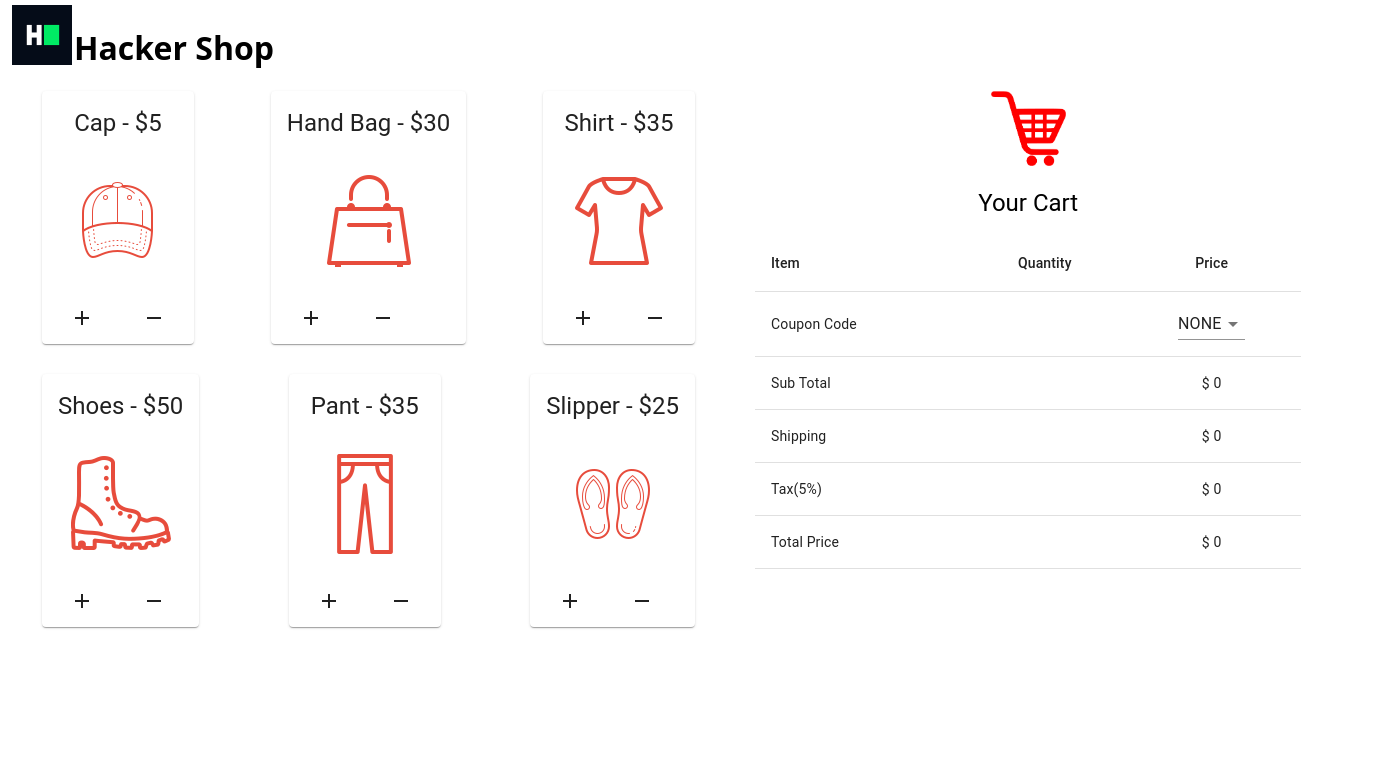
Hacker Shop <App/> › Add item multiple times and deleting the item
Step 1. Click the button with id "buttonAdd3" → (82, 601), box [50,583,114,619]
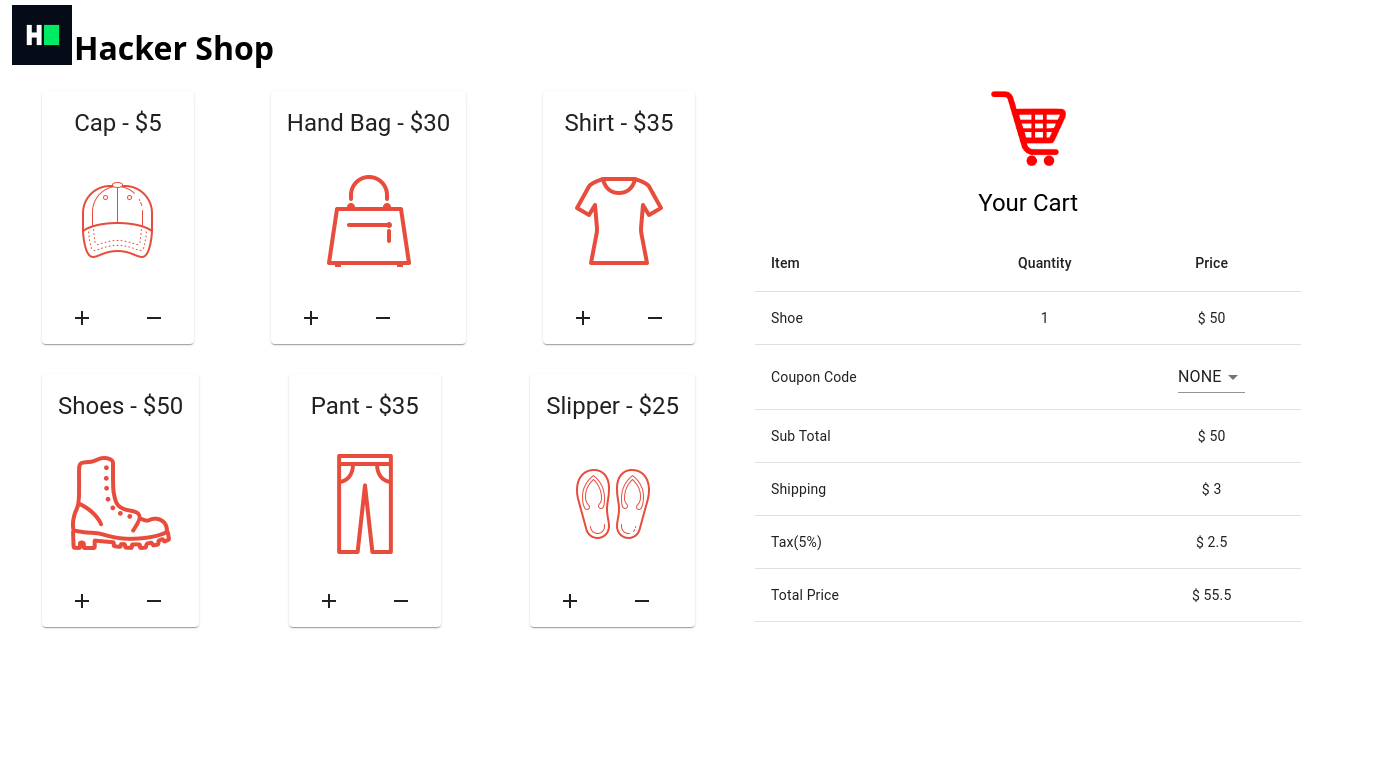
Step 2. Click the button with id "buttonAdd3" → (82, 601), box [50,583,114,619]
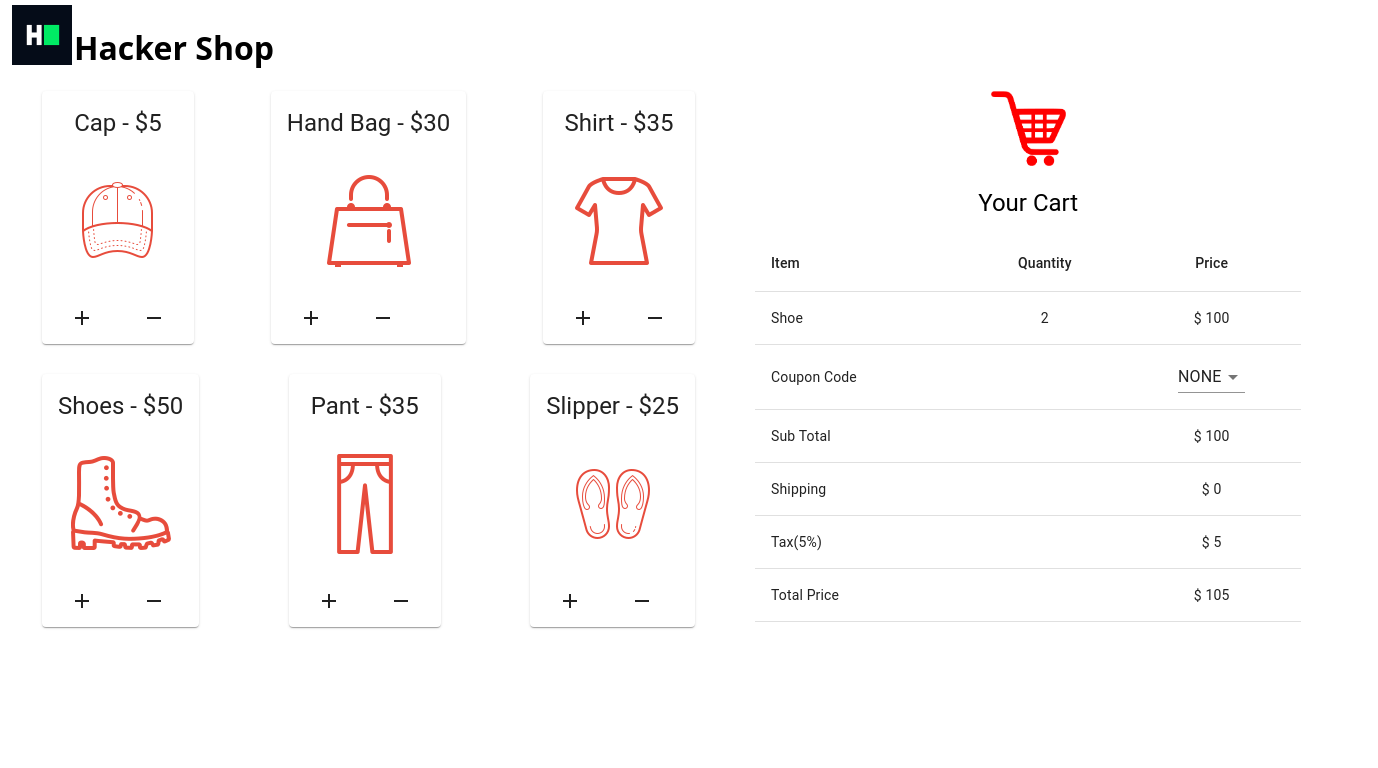
Step 3. Click the button with id "buttonAdd3" → (82, 601), box [50,583,114,619]
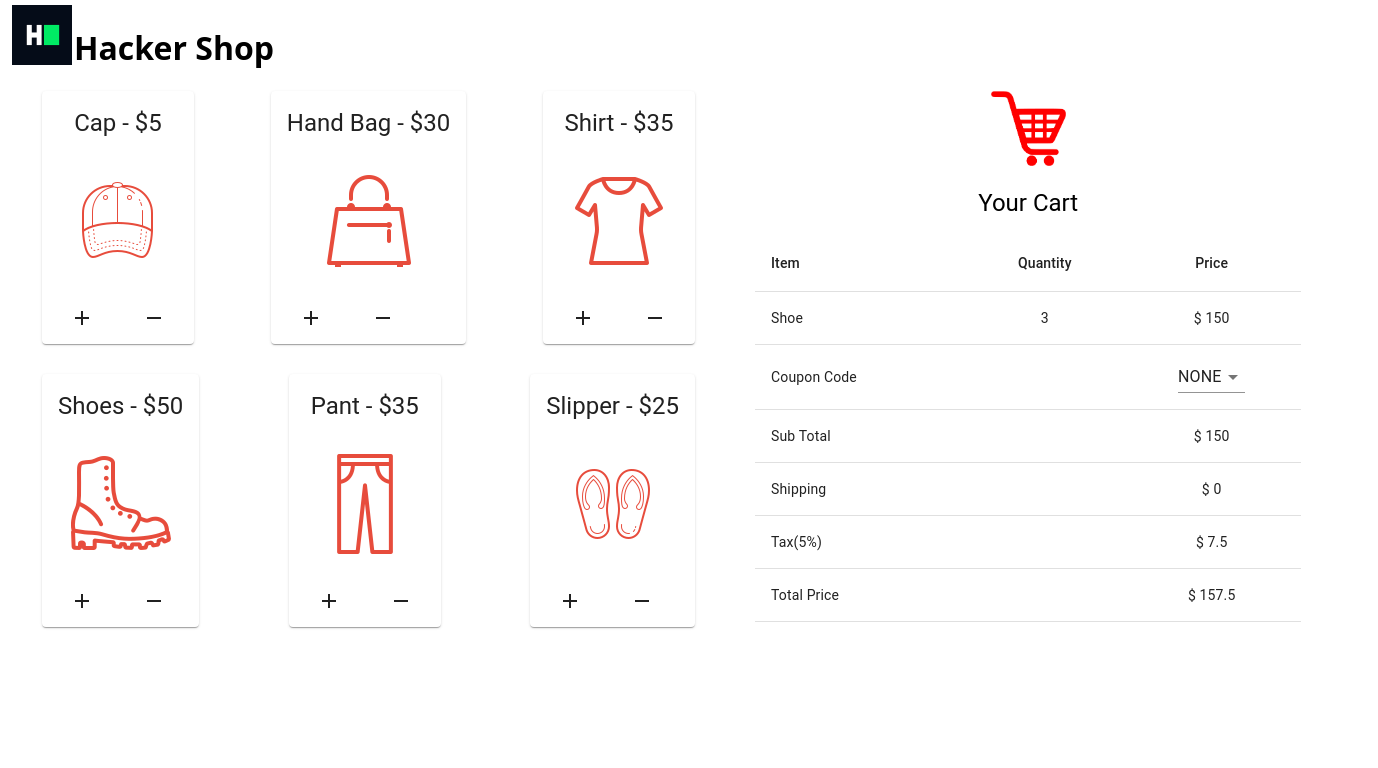
Result: the row with id "itemRow0" reads "Shoe 3 $ 150" at [755,291,1301,344]
Step 4. Click the button with id "buttonDelete3" → (154, 601), box [122,583,186,619]
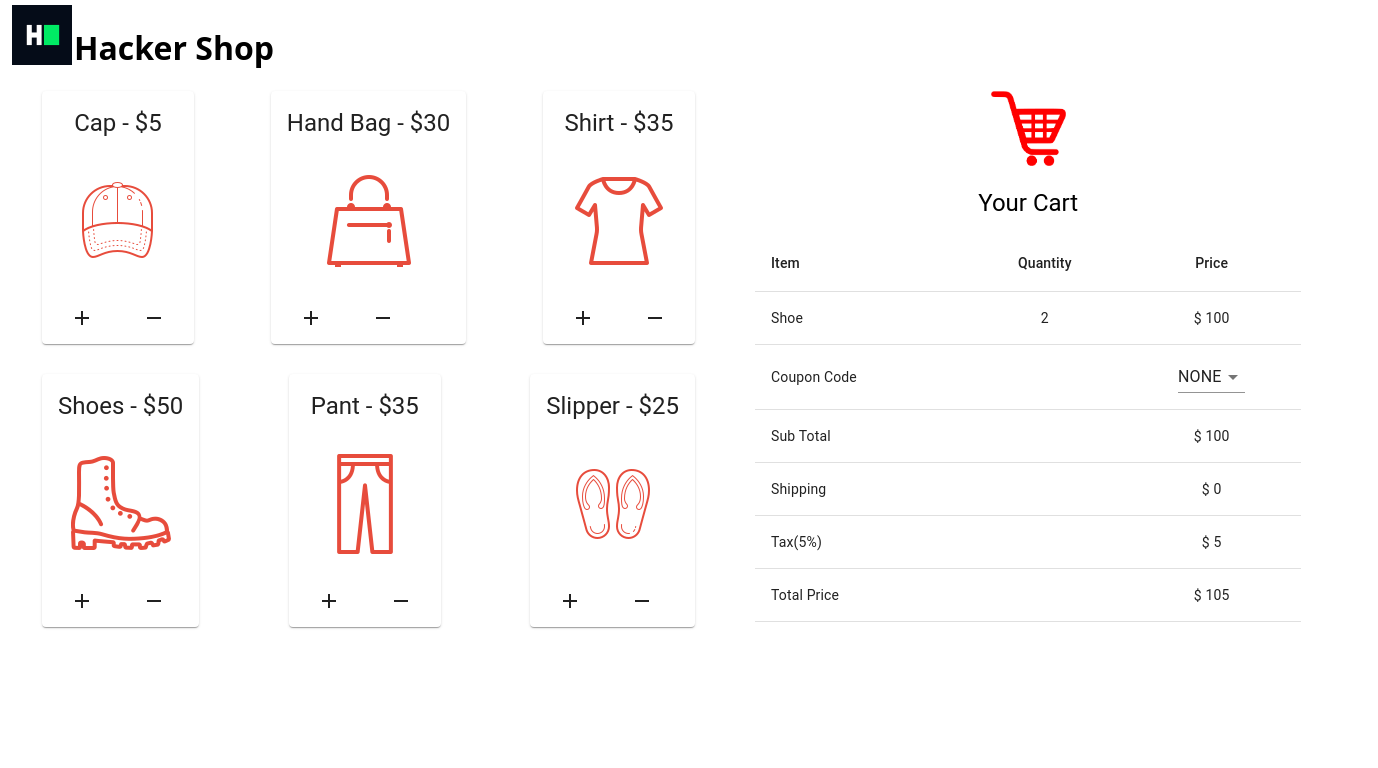
Result: the row with id "itemRow0" reads "Shoe 2 $ 100" at [755,291,1301,344]
Step 5. Click the button with id "buttonDelete3" → (154, 601), box [122,583,186,619]
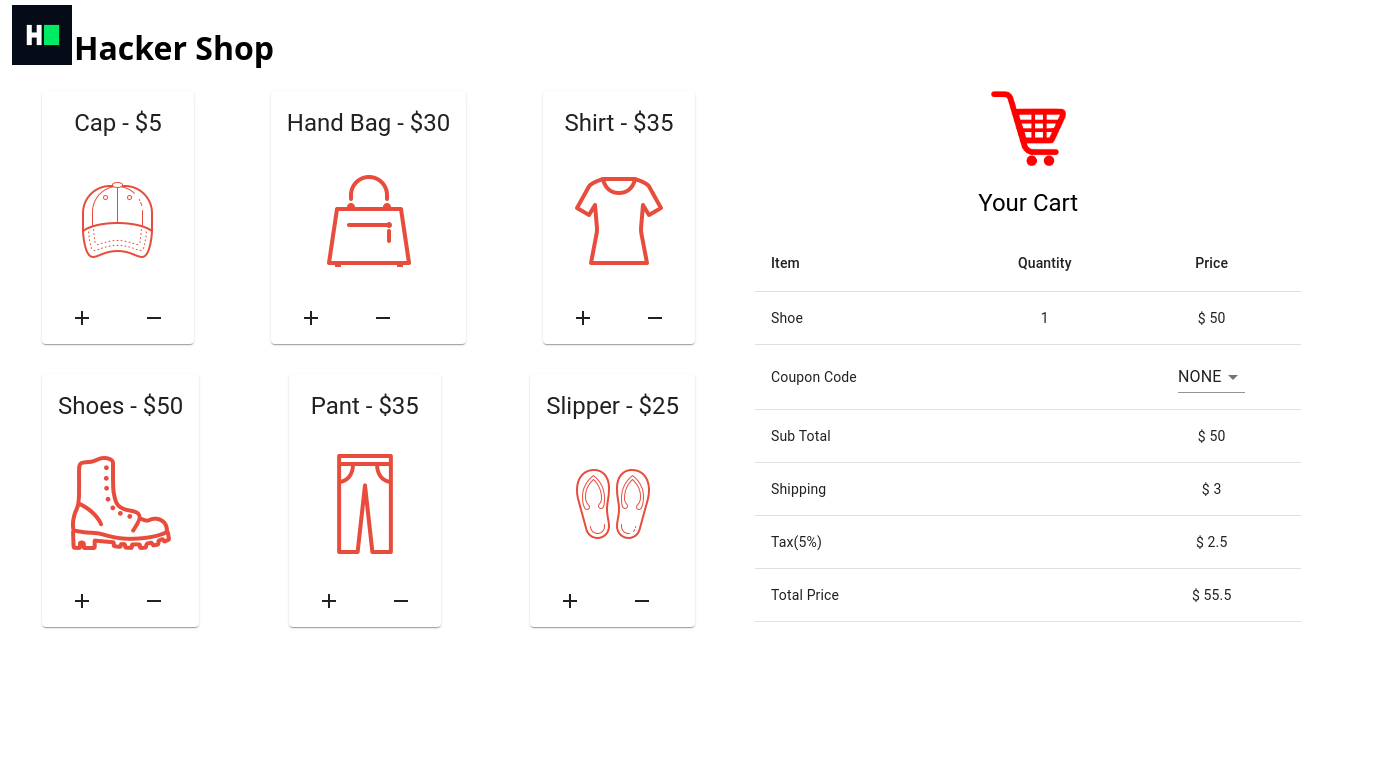
Result: the row with id "itemRow0" reads "Shoe 1 $ 50" at [755,291,1301,344]
